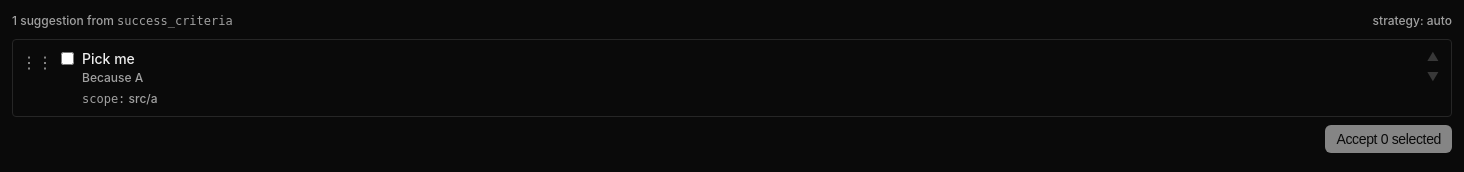
Test: SuggestionPanel (LM-87) › toggles selection on checkbox click and enables Accept
This screenshot has width=1464, height=172.
Expected: the button with test id "suggestion-panel-accept" is disabled, [1325, 126, 1452, 154]
Expected: the button with test id "suggestion-panel-accept" reads "Accept 0 selected", [1325, 126, 1452, 154]
What coordinates should you click on to do the following:
click the checkbox named "Select Pick me"
I would click on:
 (68, 58)
Its box is [61, 52, 74, 65].
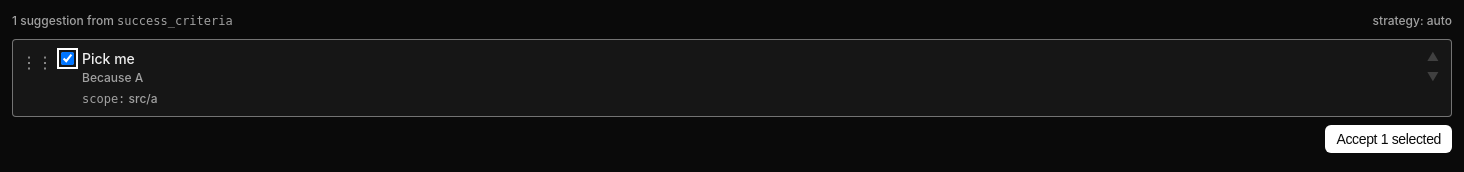
Expected: the button with test id "suggestion-panel-accept" is enabled, [1325, 126, 1452, 154]
Expected: the button with test id "suggestion-panel-accept" reads "Accept 1 selected", [1325, 126, 1452, 154]
